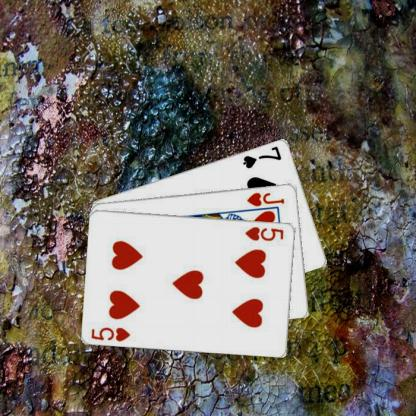5H: (89, 324, 132, 342), (243, 224, 285, 242)
7S: (241, 144, 283, 170)
JH: (245, 190, 286, 208)
